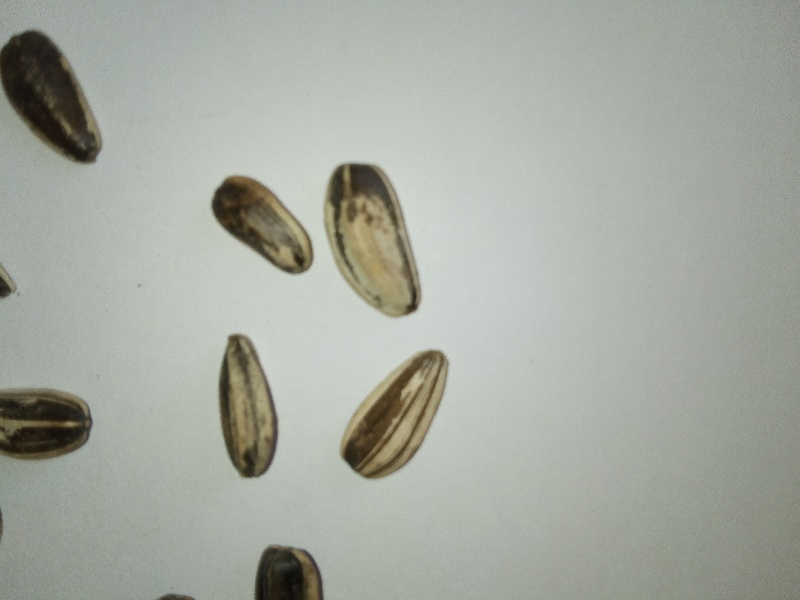girasol: (332, 342, 460, 483), (320, 157, 425, 327), (203, 329, 295, 484), (207, 169, 319, 282)
